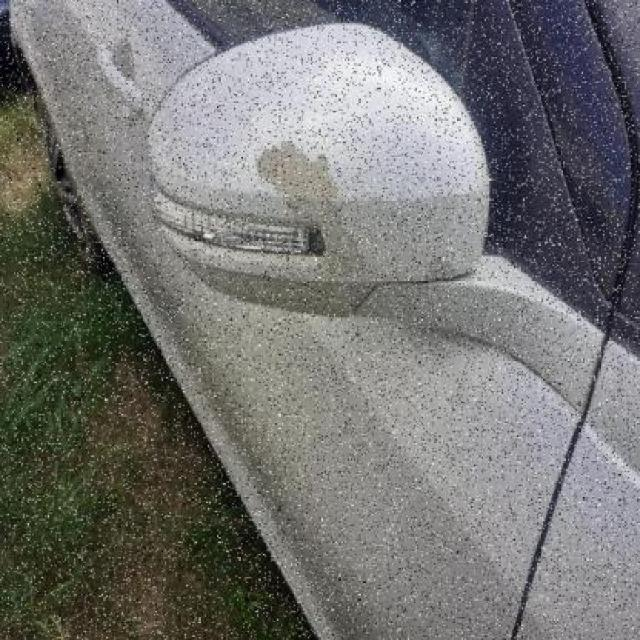Sidemirror-Damage: (146, 13, 503, 350)
